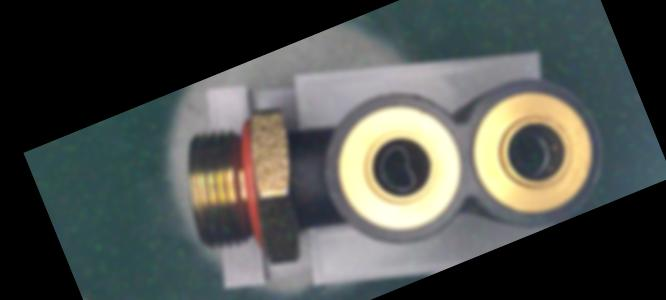off-centered: (500, 120, 560, 189), (366, 138, 426, 203)
